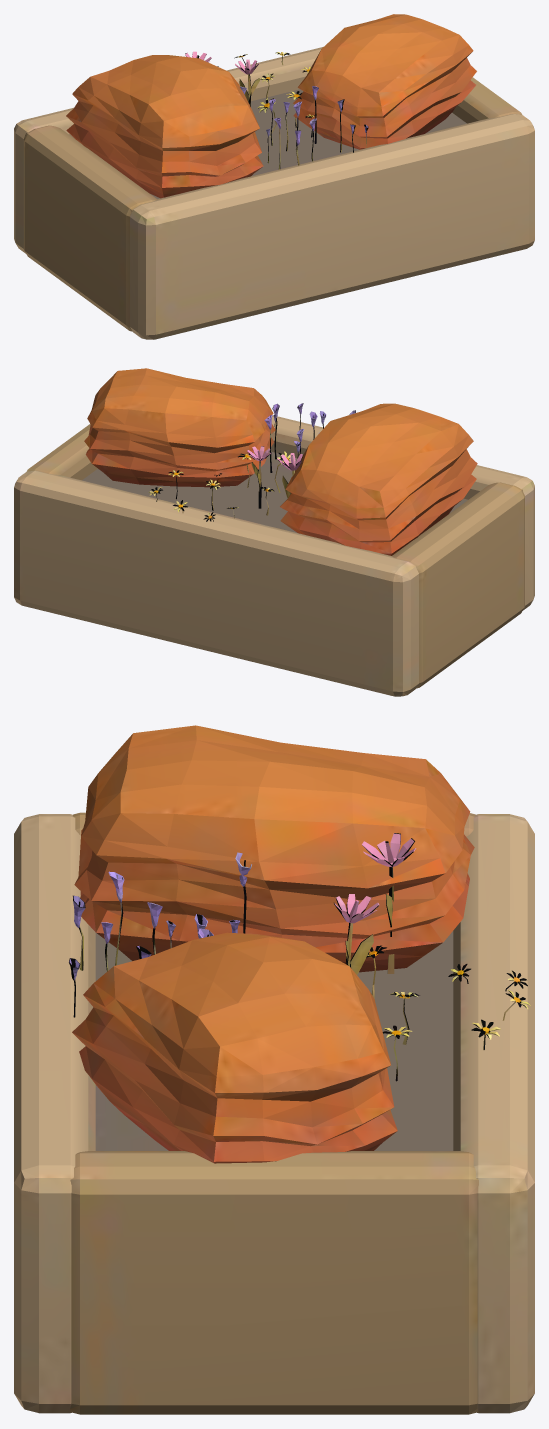
File: plaza_planter_filled.glb
3 renders of one model, top to bottom at view 1: azimuth 30°, elevation 25°; view 2: azimuth 150°, elevation 25°; view 3: azimuth 270°, elevation 25°, orthographic. The views are drawn at different scales.
Parts seen in each view (by area): view 1: plaza_planter_filled; view 2: plaza_planter_filled; view 3: plaza_planter_filled.
Part boxes in pixels (x1,y1,x2,y2): plaza_planter_filled: (14, 14, 534, 339); plaza_planter_filled: (14, 368, 534, 696); plaza_planter_filled: (14, 725, 534, 1414).
Bounding box in the file's own units: 1.76 × 0.85 × 1.04.
Materials: 1 (1 with a texture image).
